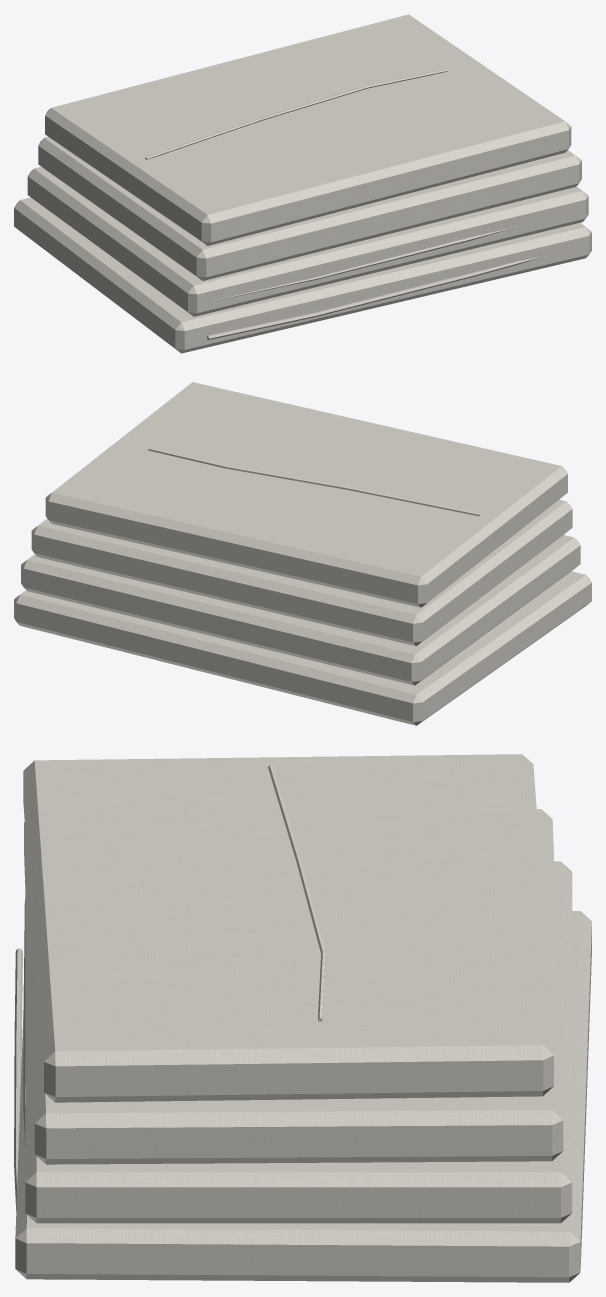
Rendered from folded_bedsheet_stack_027_v3.glb.
3 views of the same model, one above another, from view 1: azimuth 30°, elevation 25°; view 2: azimuth 150°, elevation 25°; view 3: azimuth 270°, elevation 25° (orthographic). The views are drawn at different scales.
Visible parts, largest first — view 1: REUSE__folded_bedsheet_stack__027; view 2: REUSE__folded_bedsheet_stack__027; view 3: REUSE__folded_bedsheet_stack__027.
Part boxes in pixels (left/top/right/bottom): REUSE__folded_bedsheet_stack__027: left=14, top=14, right=591, bottom=353; REUSE__folded_bedsheet_stack__027: left=14, top=382, right=591, bottom=725; REUSE__folded_bedsheet_stack__027: left=14, top=754, right=591, bottom=1282.
Size of the model in its own units: 0.4748 by 0.1504 by 0.3476.
Materials: 1 (1 with a texture image).
